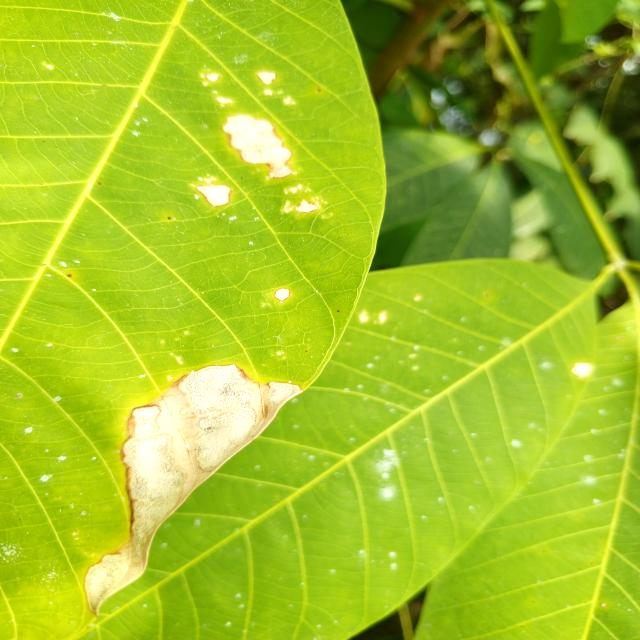Leaf-Blight: (84, 364, 304, 618), (221, 114, 293, 178), (196, 184, 232, 208), (256, 71, 277, 84), (296, 200, 316, 213), (274, 288, 290, 301), (205, 73, 220, 82)
